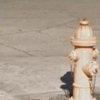Hydrant: (62, 11, 100, 100)
